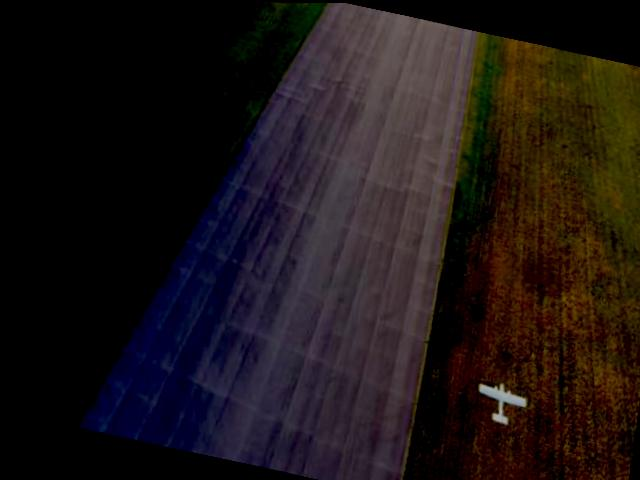uav: (463, 378, 528, 430)
